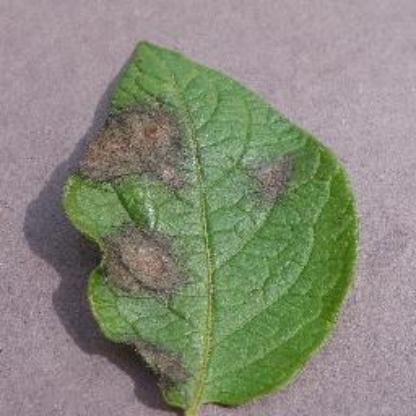Late-Blight: (39, 26, 379, 416)
